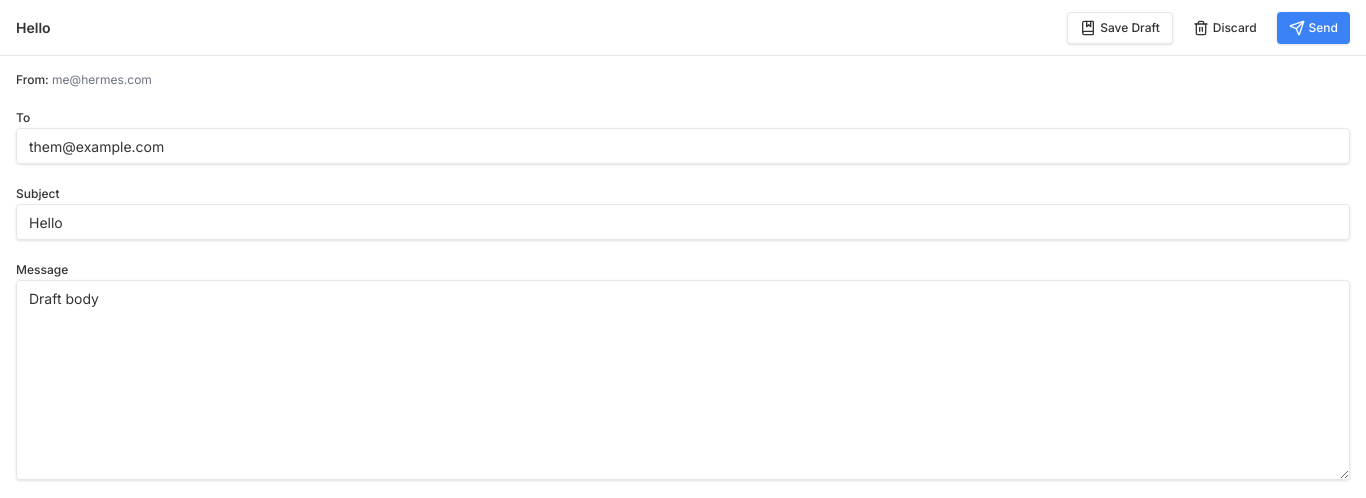
ComposeEditor › Save Draft › shows saved indicator after successful save
This screenshot has width=1366, height=498.
Click the button with test id "compose-save-draft-button": point(1120, 28) [1067, 12, 1173, 44]
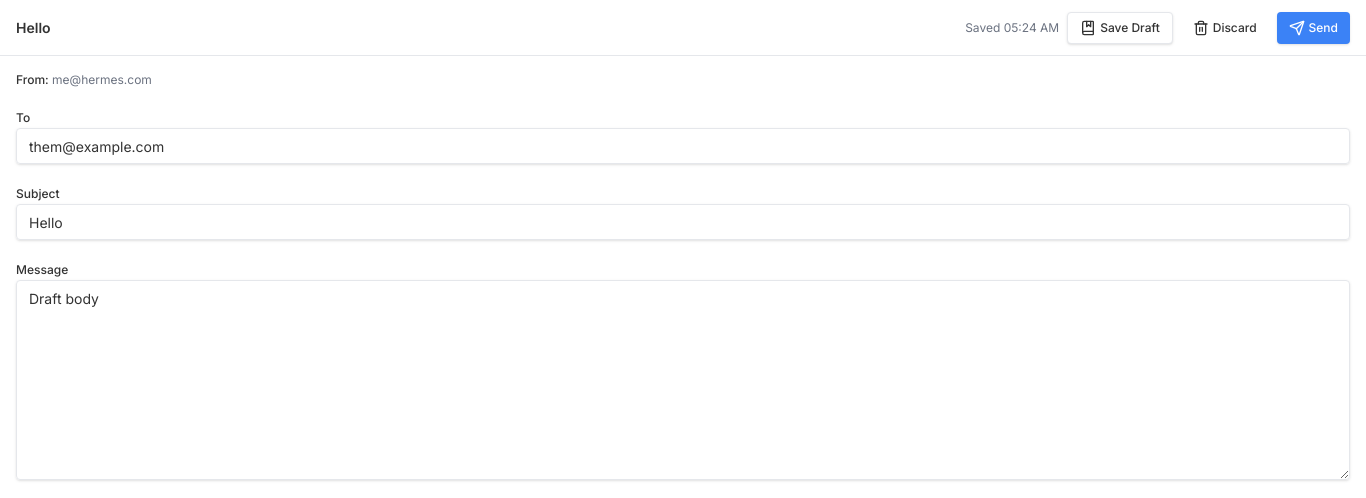
Result: the text "Saved 05:24 AM" is shown at [965, 20, 1059, 36]
